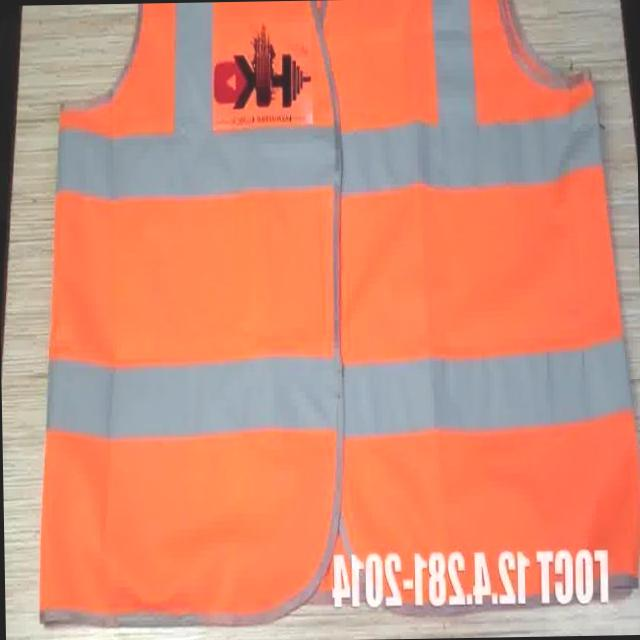vest: (25, 0, 640, 627)
